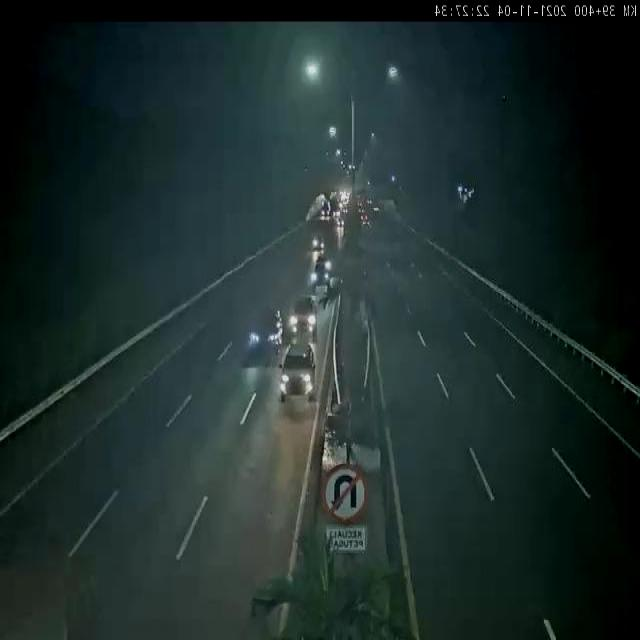Car: (238, 311, 284, 366), (276, 344, 319, 398), (290, 286, 326, 335), (313, 257, 335, 286), (309, 234, 325, 254), (360, 214, 372, 233)
